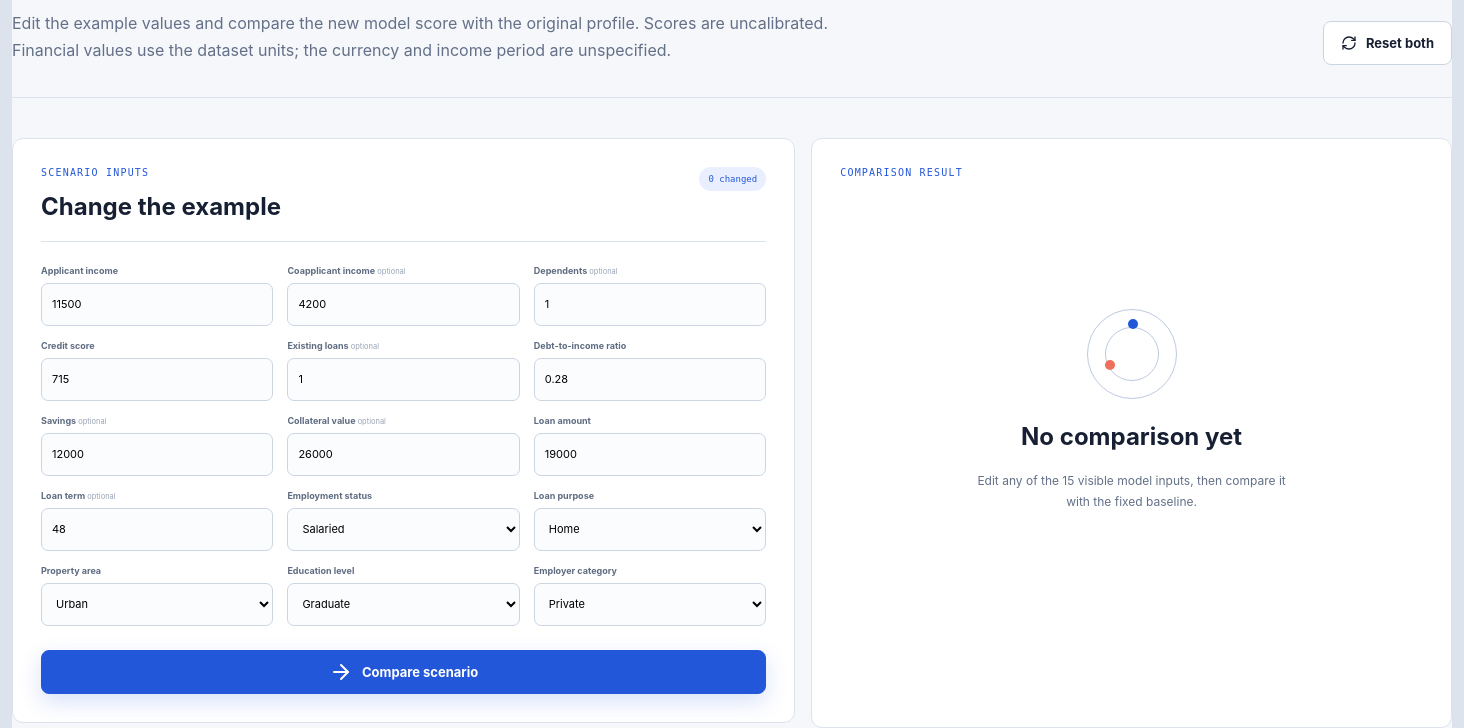
Simulator request cancellation › ignores a pending result after edit
(page scrolled)
Click the button "Compare scenario": (404,672) [41, 650, 766, 694]
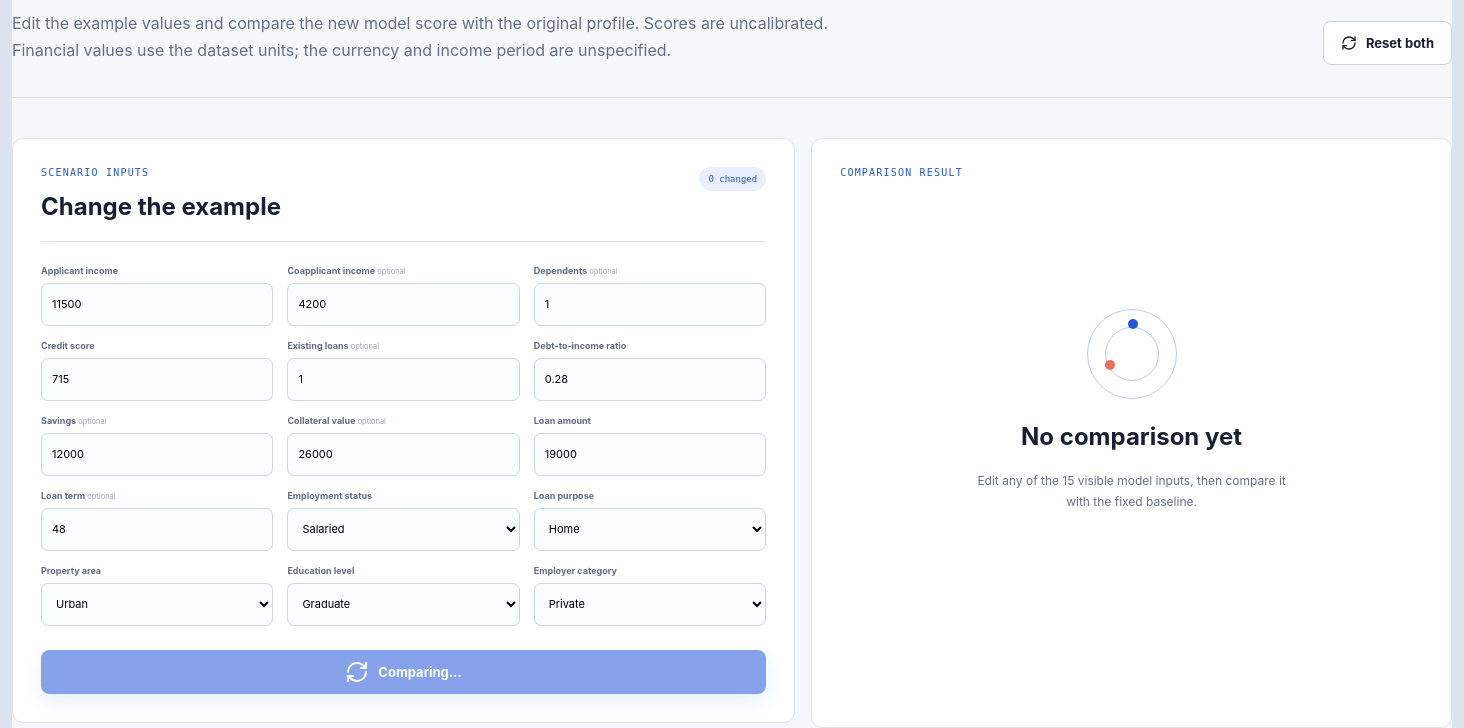
Replace the text in the number field labelled "Credit score" with "740": (157,379) [41, 358, 273, 400]
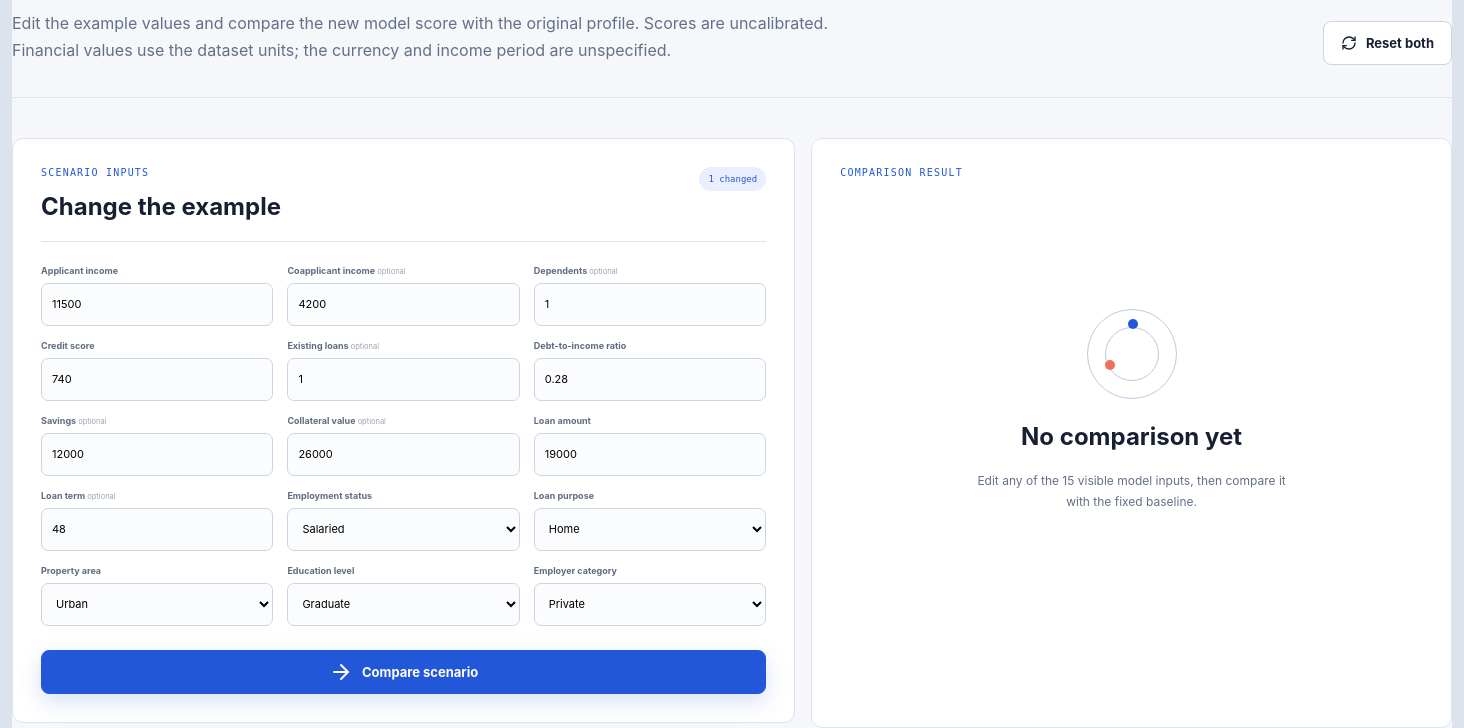
Expected: the heading "No comparison yet" is shown, [1021, 422, 1242, 451]
Expected: the button "Compare scenario" is enabled, [41, 650, 766, 694]
